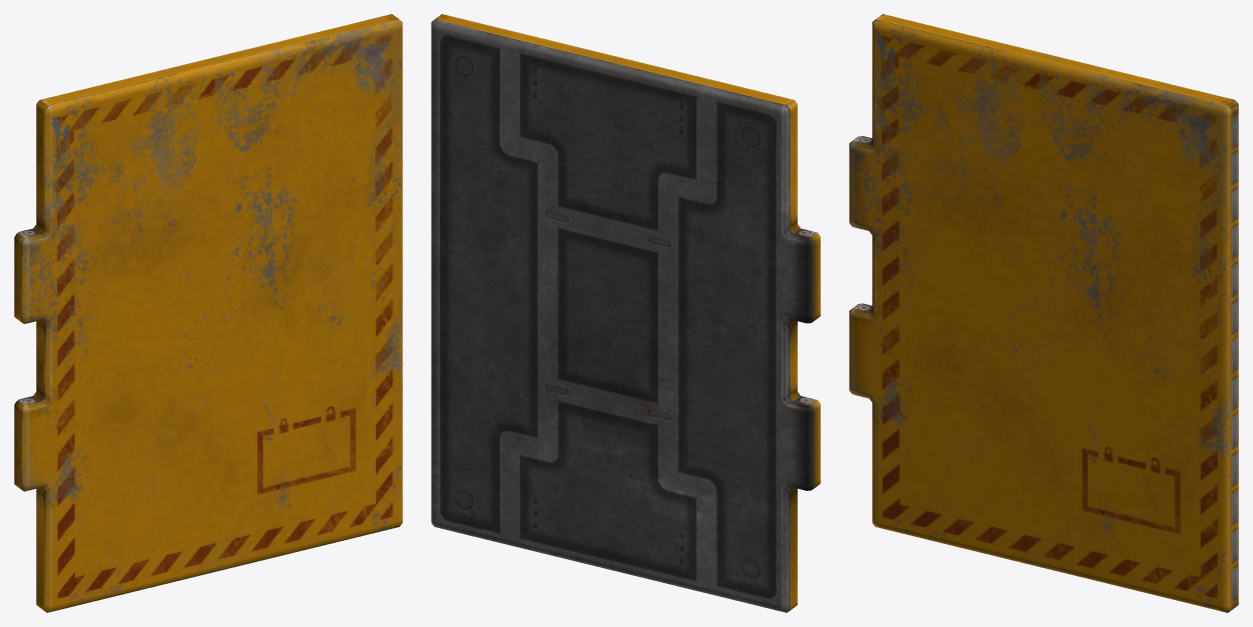
File: cabinet_reactor_keys_door.dae
3 renders of one model, left to right at view 1: azimuth 30°, elevation 25°; view 2: azimuth 150°, elevation 25°; view 3: azimuth 330°, elevation 25°, orthographic.
Parts seen in each view (by area): view 1: pCube4; view 2: pCube4; view 3: pCube4.
Boxes of the visible parts, bbox=[...] form: pCube4: bbox=[14, 14, 402, 612]; pCube4: bbox=[431, 14, 820, 612]; pCube4: bbox=[849, 14, 1238, 612].
Bounding box in the file's own units: 0.6691 × 0.85 × 0.0339.
